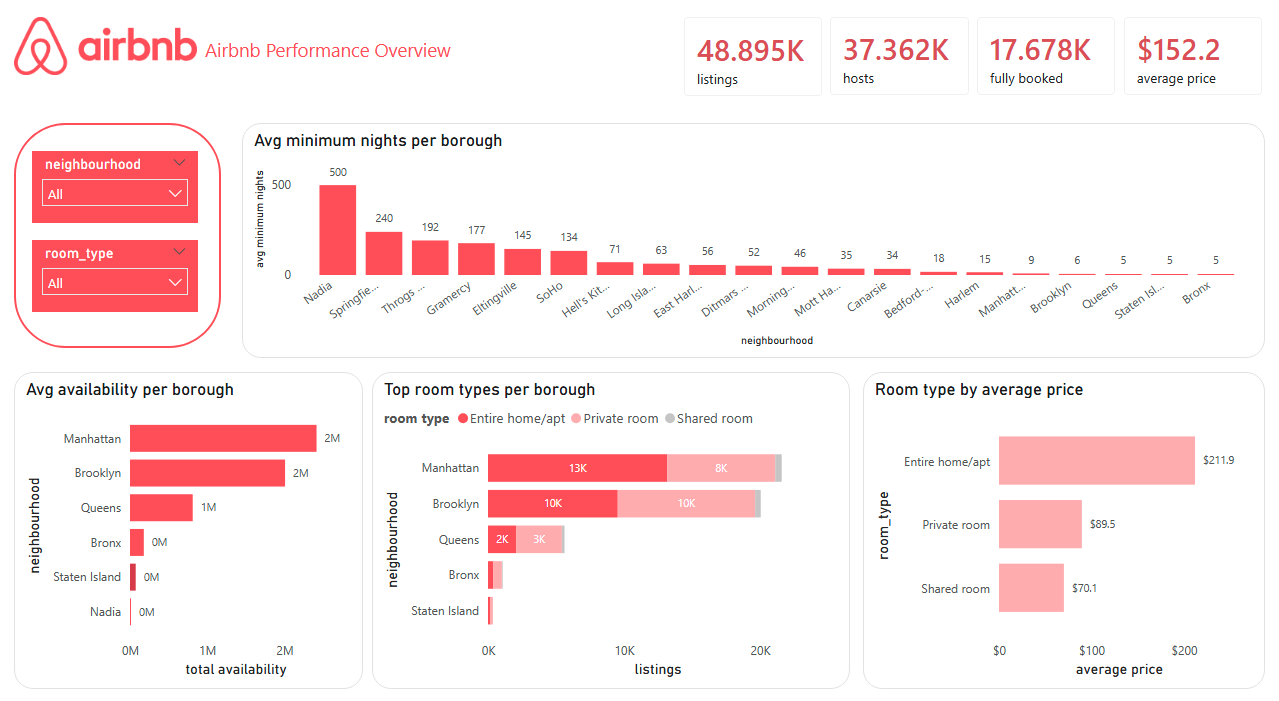

This screenshot's page, from the dashboard's own definition file:
{"tool":"powerbi","page":{"name":"Availability / Stay conditions","canvas":[1280,720],"ordinal":2},"visuals":[{"type":"shape","box":[15.1,125,206.7,224.9],"z":0},{"type":"cardVisual","fields":{"Data":["CountNonNull(AB_NYC_2019.id)"]},"box":[667.9,1.6,172.4,112.9],"z":1000},{"type":"cardVisual","fields":{"Data":["Avg(AB_NYC_2019.price)"]},"box":[1107.6,2.1,172.4,111.9],"z":2000},{"type":"cardVisual","fields":{"Data":["Count(AB_NYC_2019.host_id)"]},"box":[814.4,2.1,172.4,111.9],"z":3000},{"type":"slicer","fields":{"Values":["AB_NYC_2019.neighbourhood_group"]},"box":[33.3,153.3,165.4,71.6],"z":4000},{"type":"clusteredColumnChart","title":"Avg minimum nights per borough","fields":{"Category":["AB_NYC_2019.neighbourhood_group"],"Y":["Avg(AB_NYC_2019.minimum_nights)"]},"box":[243,125,1022.5,235],"z":5000},{"type":"image","box":[15.1,9.1,182.5,77.6],"z":6000},{"type":"cardVisual","fields":{"Data":["CountNonNull(AB_NYC_2019.id)"]},"box":[961,2.1,172.4,111.9],"z":7000},{"type":"slicer","fields":{"Values":["AB_NYC_2019.room_type"]},"box":[33.3,242,165.4,71.6],"z":8000},{"type":"clusteredBarChart","title":"Avg availability per borough","fields":{"Category":["AB_NYC_2019.neighbourhood_group"],"Y":["Sum(AB_NYC_2019.availability_365)"]},"box":[15.1,374.1,348.9,316.6],"z":9000},{"type":"barChart","title":"Top room types per borough","fields":{"Category":["AB_NYC_2019.neighbourhood_group"],"Series":["AB_NYC_2019.room_type"],"Y":["CountNonNull(AB_NYC_2019.id)"]},"box":[373.1,374.1,478,316.6],"z":10000},{"type":"clusteredBarChart","title":"Room type by average price","fields":{"Category":["AB_NYC_2019.room_type"],"Y":["Avg(AB_NYC_2019.price)"]},"box":[864.2,374.1,401.3,316.6],"z":11000},{"type":"textbox","box":[200.7,34.3,260.2,40.3],"z":12000}]}

Visuals, with their boxes in screenshot pixels (x1, y1, x2, y2), scaled from the page's 1280x720 canvas onto the 1279x701 screenshot:
shape: {"left": 15, "top": 122, "right": 222, "bottom": 341}
cardVisual - CountNonNull(AB_NYC_2019.id): {"left": 667, "top": 2, "right": 840, "bottom": 111}
cardVisual - Avg(AB_NYC_2019.price): {"left": 1107, "top": 2, "right": 1278, "bottom": 111}
cardVisual - Count(AB_NYC_2019.host_id): {"left": 814, "top": 2, "right": 986, "bottom": 111}
slicer - AB_NYC_2019.neighbourhood_group: {"left": 33, "top": 149, "right": 199, "bottom": 219}
"Avg minimum nights per borough" clusteredColumnChart: {"left": 243, "top": 122, "right": 1265, "bottom": 350}
image: {"left": 15, "top": 9, "right": 197, "bottom": 84}
cardVisual - CountNonNull(AB_NYC_2019.id): {"left": 960, "top": 2, "right": 1133, "bottom": 111}
slicer - AB_NYC_2019.room_type: {"left": 33, "top": 236, "right": 199, "bottom": 305}
"Avg availability per borough" clusteredBarChart: {"left": 15, "top": 364, "right": 364, "bottom": 672}
"Top room types per borough" barChart: {"left": 373, "top": 364, "right": 850, "bottom": 672}
"Room type by average price" clusteredBarChart: {"left": 864, "top": 364, "right": 1265, "bottom": 672}
textbox: {"left": 201, "top": 33, "right": 461, "bottom": 73}
